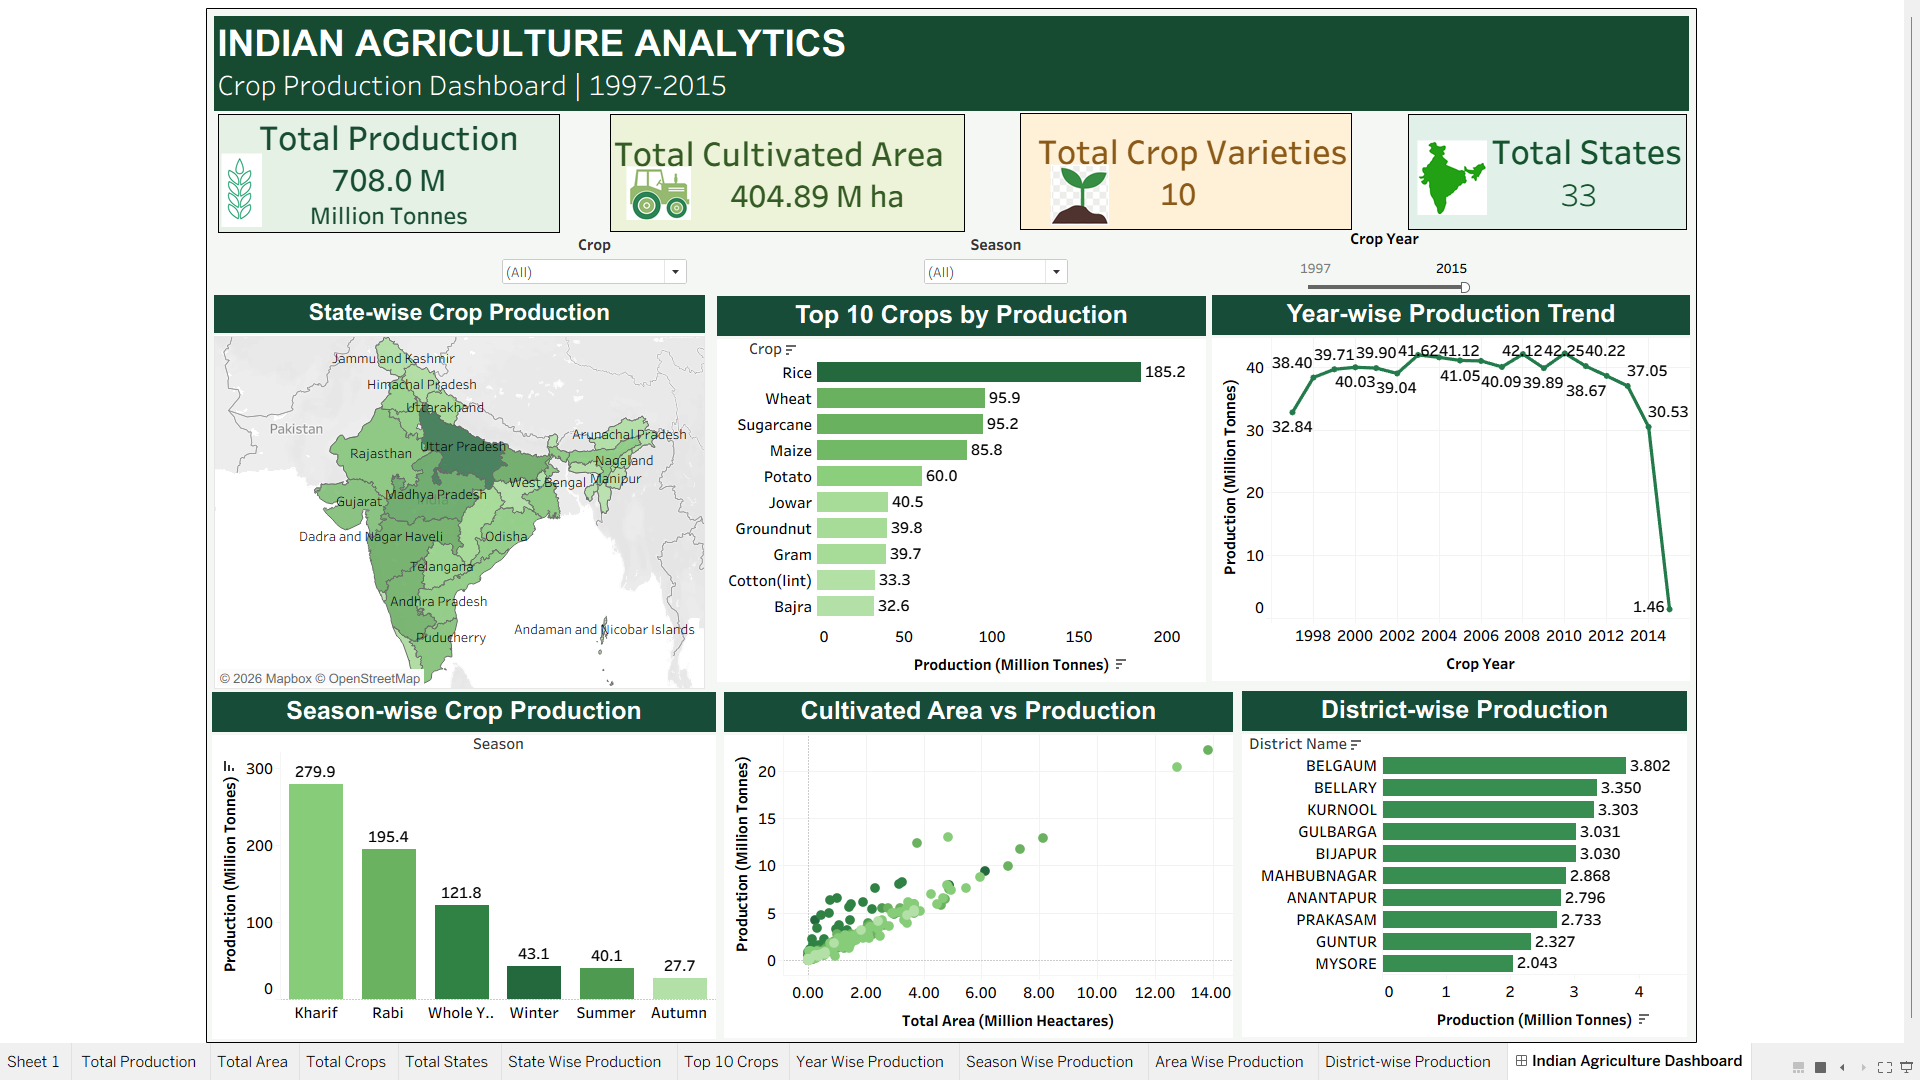

What the dashboard file says about the page in this screenshot:
{"tool":"tableau","page":{"name":"Indian Agriculture Dashboard","canvas":[1507,1051],"ordinal":0},"visuals":[{"type":"title","box":[12,12,1483,103]},{"type":"worksheet","title":" Total Production","mark":"Text","box":[9,88,364,156]},{"type":"worksheet","title":"Total Area","mark":"Automatic","box":[405,92,369,147]},{"type":"worksheet","title":"Total States","mark":"Automatic","box":[1207,96,285,137]},{"type":"worksheet","title":"Total Crops","mark":"Automatic","box":[822,98,332,132]},{"type":"image","param":"Image/States.png","box":[1219,140,70,84]},{"type":"image","param":"Image/Production.jpeg","box":[23,153,45,74]},{"type":"image","param":"Image/Crop.jpeg","box":[852,164,70,61]},{"type":"image","param":"Image/Area.jpeg","box":[428,166,73,54]},{"type":"filter","title":"Year Wise Production","param":"[federated.1w0e1w10mafbrc13gzk391r3lxge].[none:Crop_Year:qk]","box":[1097,228,179,69]},{"type":"filter","title":"Top 10 Crops","param":"[federated.1w0e1w10mafbrc13gzk391r3lxge].[none:Crop:nk]","box":[301,234,191,54]},{"type":"filter","title":"Season Wise Production","param":"[federated.1w0e1w10mafbrc13gzk391r3lxge].[none:Season:nk]","box":[723,234,150,61]},{"type":"worksheet","title":"State Wise Production","mark":"Multipolygon","box":[6,285,511,414]},{"type":"worksheet","title":"Top 10 Crops","mark":"Automatic","rows":["Crop"],"cols":["Calculation_0840094275043328"],"box":[509,286,509,432]},{"type":"worksheet","title":"Year Wise Production","mark":"Line","rows":["Calculation_0840094275043328"],"cols":["Crop_Year"],"box":[1014,295,478,386]},{"type":"worksheet","title":"Season Wise Production","mark":"Bar","rows":["Calculation_0840094275043328"],"cols":["Season"],"box":[14,692,504,347]},{"type":"worksheet","title":"Area Wise Production","mark":"Circle","rows":["Calculation_0840094275043328"],"cols":["Calculation_1234815091703812"],"box":[526,692,509,346]}]}

Visuals, with their boxes in screenshot pixels (x1, y1, x2, y2):
title: Rect(202, 7, 1705, 112)
" Total Production" worksheet (Text marks): Rect(199, 84, 568, 242)
"Total Area" worksheet: Rect(600, 88, 974, 237)
"Total States" worksheet: Rect(1413, 92, 1702, 231)
"Total Crops" worksheet: Rect(1023, 94, 1359, 228)
image: Rect(1425, 137, 1496, 222)
image: Rect(213, 150, 259, 225)
image: Rect(1053, 161, 1124, 223)
image: Rect(624, 163, 698, 218)
"Year Wise Production" filter: Rect(1302, 226, 1483, 296)
"Top 10 Crops" filter: Rect(495, 232, 689, 287)
"Season Wise Production" filter: Rect(923, 232, 1075, 294)
"State Wise Production" worksheet (Multipolygon marks): Rect(196, 284, 714, 703)
"Top 10 Crops" worksheet: Rect(706, 285, 1222, 723)
"Year Wise Production" worksheet (Line marks): Rect(1218, 294, 1702, 685)
"Season Wise Production" worksheet (Bar marks): Rect(204, 696, 715, 1048)
"Area Wise Production" worksheet (Circle marks): Rect(723, 696, 1239, 1047)
